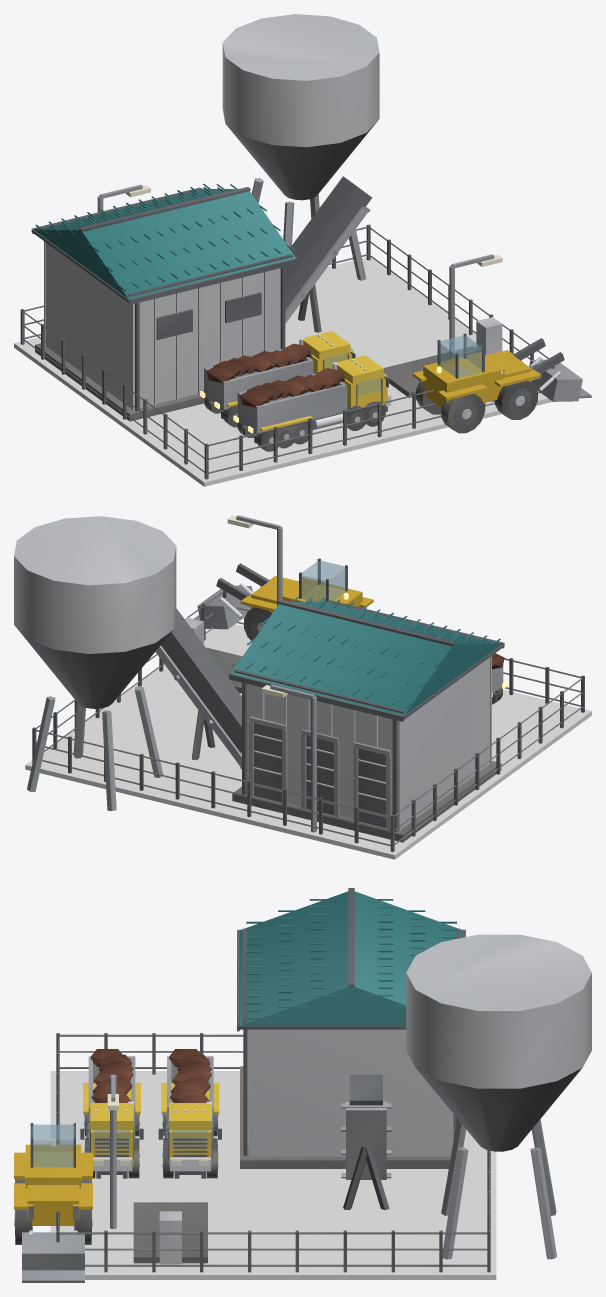
The model's file is Haul_P3.fbx.
The picture shows the model from 3 angles, top to bottom: view 1: azimuth 30°, elevation 25°; view 2: azimuth 150°, elevation 25°; view 3: azimuth 270°, elevation 25°; orthographic projection. The views are drawn at different scales.
Parts seen in each view (by area): view 1: Haul.Workshop, Haul.Hopper, Haul.Yard, Haul.Loader, Haul.Parked1, Haul.Fence, Haul.Parked0, Haul.Conv, Haul.Weighbridge, Haul.Lamp0; view 2: Haul.Workshop, Haul.Hopper, Haul.Yard, Haul.Fence, Haul.Conv, Haul.Loader, Haul.Lamp1, Haul.Lamp0, Haul.Weighbridge, Haul.Parked1; view 3: Haul.Workshop, Haul.Yard, Haul.Hopper, Haul.Loader, Haul.Fence, Haul.Parked0, Haul.Parked1, Haul.Conv, Haul.Weighbridge, Haul.Lamp0.
Part boxes in pixels (box(x1,y1,x2,y2)): Haul.Workshop: box(31, 183, 297, 421); Haul.Hopper: box(222, 14, 379, 280); Haul.Yard: box(14, 257, 552, 486); Haul.Loader: box(412, 333, 591, 433); Haul.Parked1: box(233, 355, 391, 451); Haul.Fence: box(20, 224, 554, 479); Haul.Parked0: box(200, 331, 355, 427); Haul.Conv: box(285, 176, 371, 332); Haul.Weighbridge: box(383, 317, 502, 397); Haul.Lamp0: box(449, 254, 502, 358); Haul.Workshop: box(229, 596, 504, 842); Haul.Hopper: box(14, 516, 176, 810); Haul.Yard: box(25, 624, 591, 859); Haul.Fence: box(32, 590, 584, 851); Haul.Conv: box(155, 608, 241, 769); Haul.Loader: box(194, 558, 373, 640); Haul.Lamp1: box(261, 684, 316, 832); Haul.Lamp0: box(227, 515, 282, 605); Haul.Weighbridge: box(185, 617, 242, 693); Haul.Parked1: box(492, 653, 507, 704); Haul.Workshop: box(237, 888, 465, 1168); Haul.Yard: box(50, 1071, 496, 1279); Haul.Hopper: box(406, 934, 591, 1259); Haul.Loader: box(14, 1123, 92, 1282); Haul.Fence: box(56, 1033, 490, 1272); Haul.Parked0: box(158, 1049, 221, 1178); Haul.Parked1: box(80, 1049, 143, 1178); Haul.Conv: box(341, 1074, 391, 1210); Haul.Weighbridge: box(133, 1202, 207, 1264); Haul.Lamp0: box(107, 1074, 118, 1229).
Size of the model in its own units: 2734 by 1598 by 3113.
